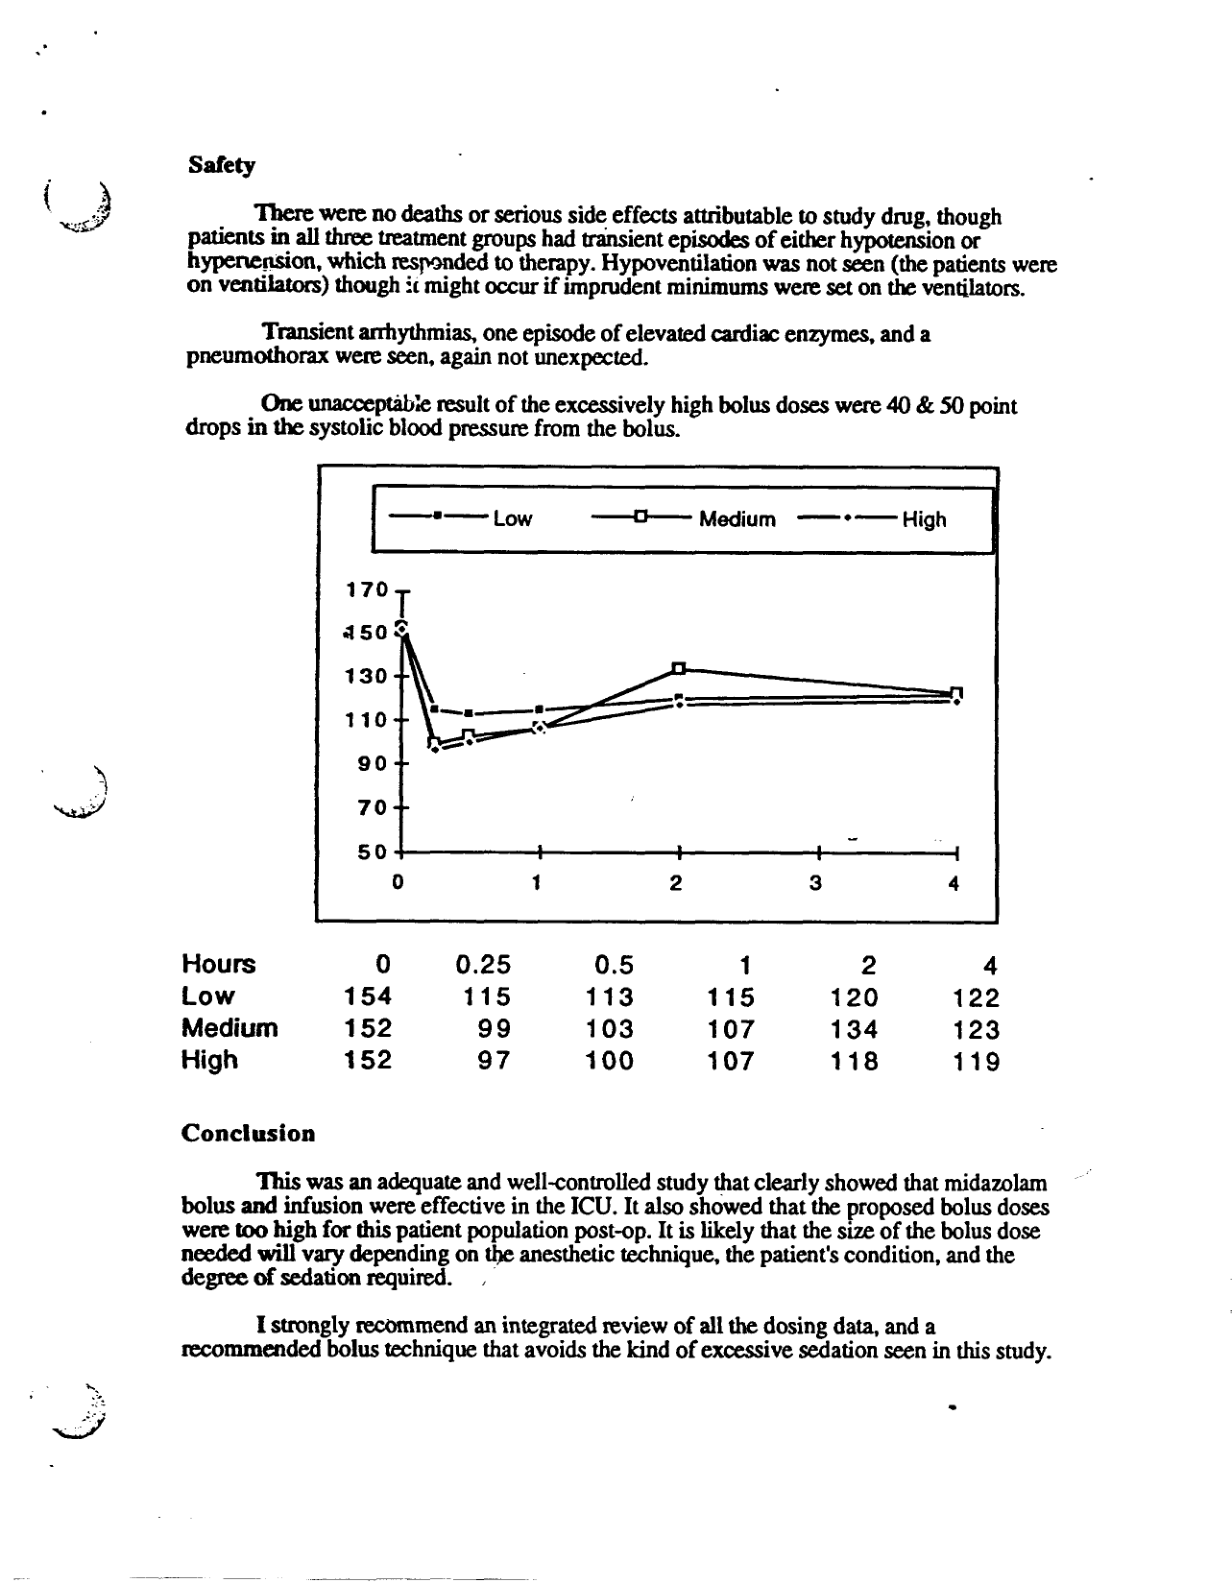nolines: (177, 949, 1002, 1077)
